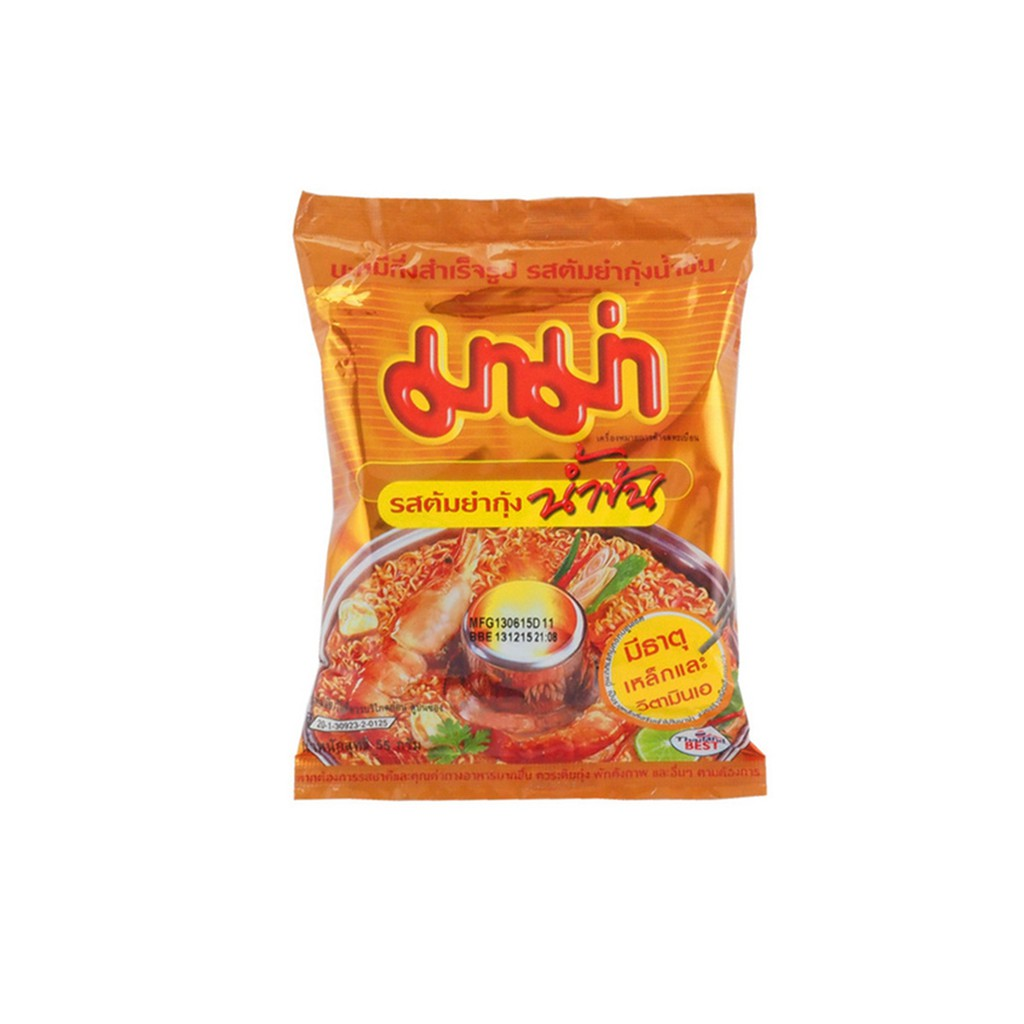Snack: (279, 185, 786, 820)
